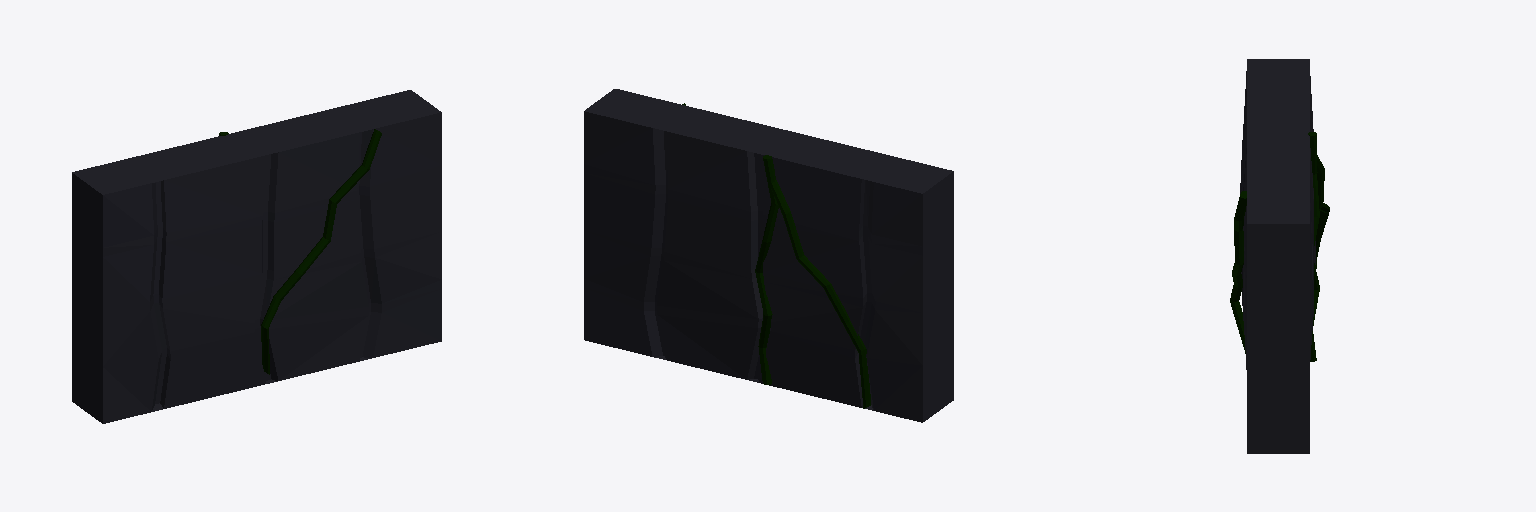
The model's file is Wall.obj.
3 views of the same model, side by side, from view 1: azimuth 30°, elevation 25°; view 2: azimuth 150°, elevation 25°; view 3: azimuth 270°, elevation 25° (orthographic).
Visible parts, largest first — view 1: Cube.001, Cube.003; view 2: Cube.001, Cube.002, Cube; view 3: Cube.001, Cube.003, Cube, Cube.002.
Part boxes in pixels (bbox=[...]): Cube.001: bbox=[72, 90, 441, 423]; Cube.003: bbox=[261, 129, 381, 374]; Cube.001: bbox=[584, 89, 953, 422]; Cube.002: bbox=[770, 180, 870, 408]; Cube: bbox=[755, 155, 778, 384]; Cube.001: bbox=[1240, 59, 1315, 453]; Cube.003: bbox=[1230, 191, 1246, 353]; Cube: bbox=[1308, 132, 1319, 361]; Cube.002: bbox=[1311, 155, 1329, 268].
Bounding box in the file's own units: 6.28 × 4.06 × 1.61.